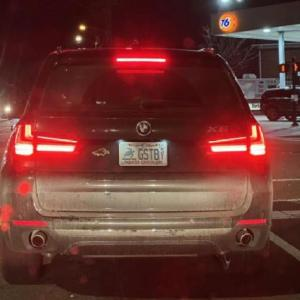Plate: (118, 142, 168, 167)
